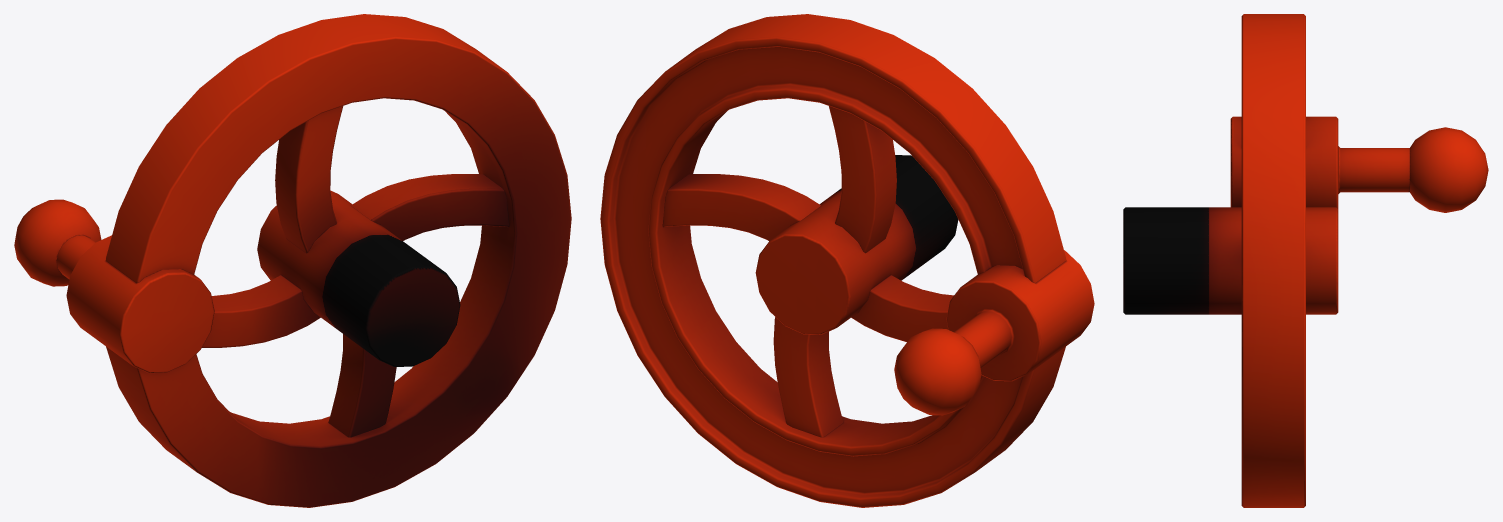
The model's file is CannonWheel.glb.
3 views of the same model, side by side, from view 1: azimuth 30°, elevation 25°; view 2: azimuth 150°, elevation 25°; view 3: azimuth 270°, elevation 25° (orthographic). The views are drawn at different scales.
Visible parts, largest first — view 1: CannonWheel; view 2: CannonWheel; view 3: CannonWheel.
Part boxes in pixels (x1,y1,x2,y2): CannonWheel: (14,14,571,507); CannonWheel: (600,14,1094,507); CannonWheel: (1123,14,1488,507).
Size of the model in its own units: 0.4801 by 0.4603 by 0.34.
1 material, 1 textured.
